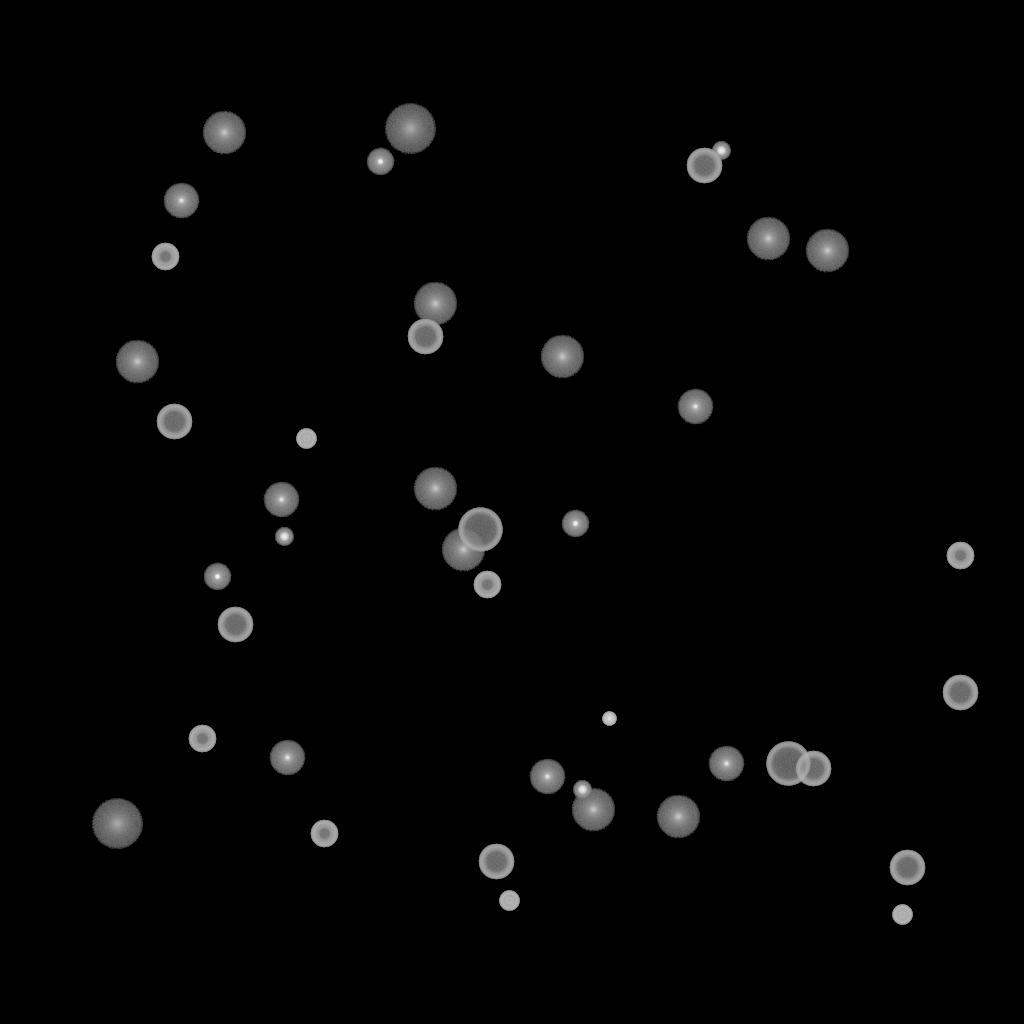depth:-10: (561, 510, 589, 538), (203, 563, 231, 591), (366, 148, 394, 176)
depth:-20: (275, 528, 293, 546), (573, 781, 591, 799), (712, 142, 730, 160)
depth:-30: (602, 712, 616, 726)
depth:-40: (296, 429, 316, 449), (499, 891, 519, 911), (892, 905, 912, 925)
depth:-50: (473, 571, 501, 599), (946, 542, 974, 570), (310, 820, 338, 848), (151, 243, 179, 271), (188, 725, 216, 753)
depth:-60: (217, 607, 253, 643), (889, 850, 925, 886), (156, 404, 192, 440), (942, 675, 978, 711), (686, 148, 722, 184), (478, 844, 514, 880), (407, 319, 443, 355), (795, 751, 831, 787)
depth:-70: (458, 508, 502, 552), (766, 742, 810, 786)
depth:0: (163, 183, 199, 219), (263, 482, 299, 518), (529, 759, 565, 795), (708, 746, 744, 782), (677, 389, 713, 425), (269, 740, 305, 776)
depth:10: (746, 217, 790, 261), (540, 335, 584, 379), (656, 795, 700, 839), (115, 340, 159, 384), (413, 282, 457, 326), (805, 229, 849, 273), (202, 111, 246, 155), (441, 528, 485, 572), (571, 788, 615, 832), (413, 467, 457, 511)
depth:20: (91, 799, 143, 849), (384, 104, 436, 154)
